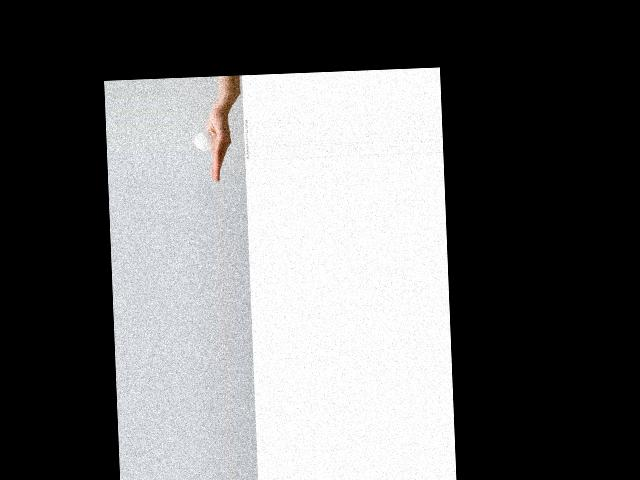egg: (194, 131, 217, 151)
